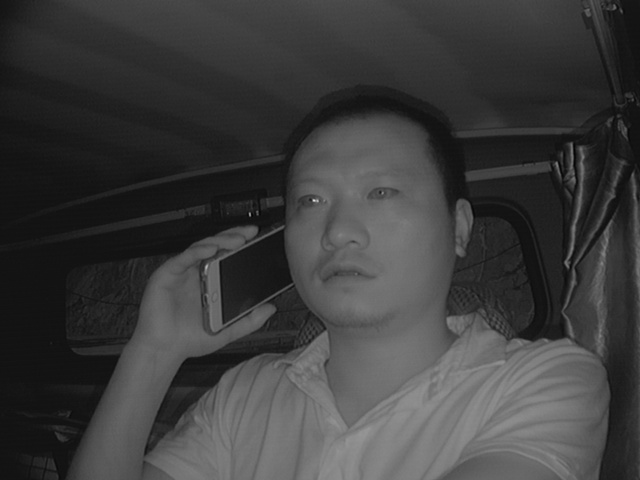hand: (141, 222, 262, 357)
